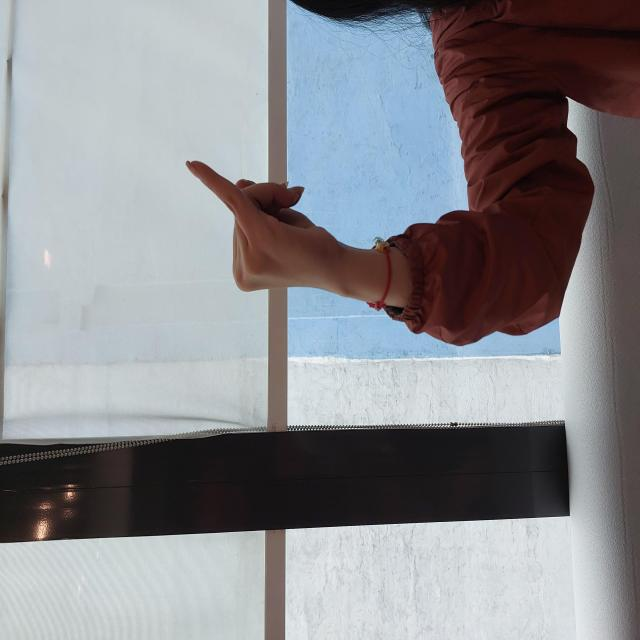J: (346, 184, 482, 344)
